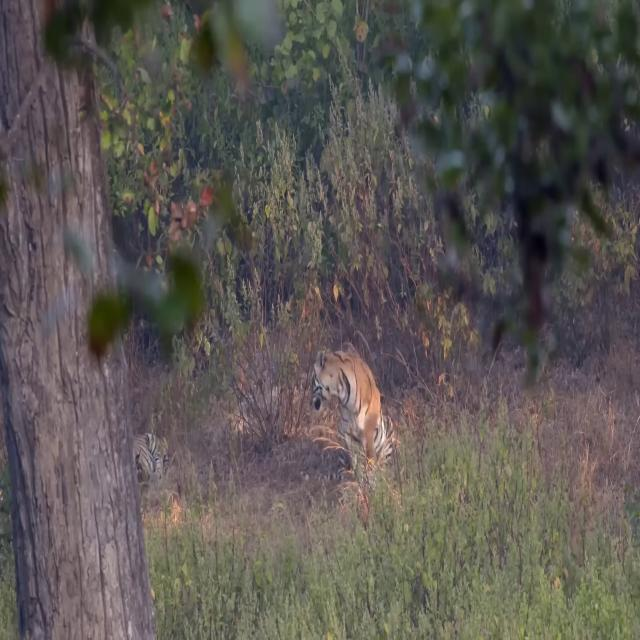tiger: (300, 348, 394, 480)
